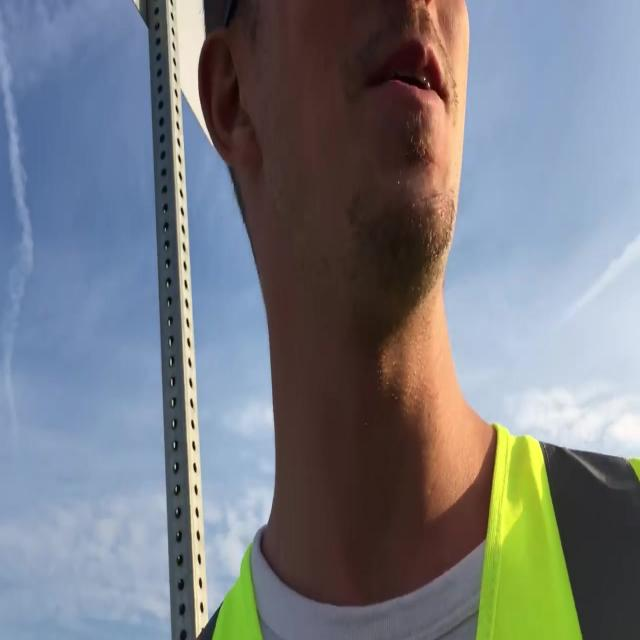Reflective-Jacket: (168, 411, 634, 639)
